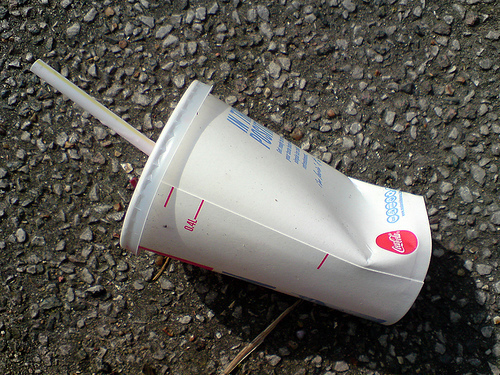litter: (23, 57, 431, 325)
